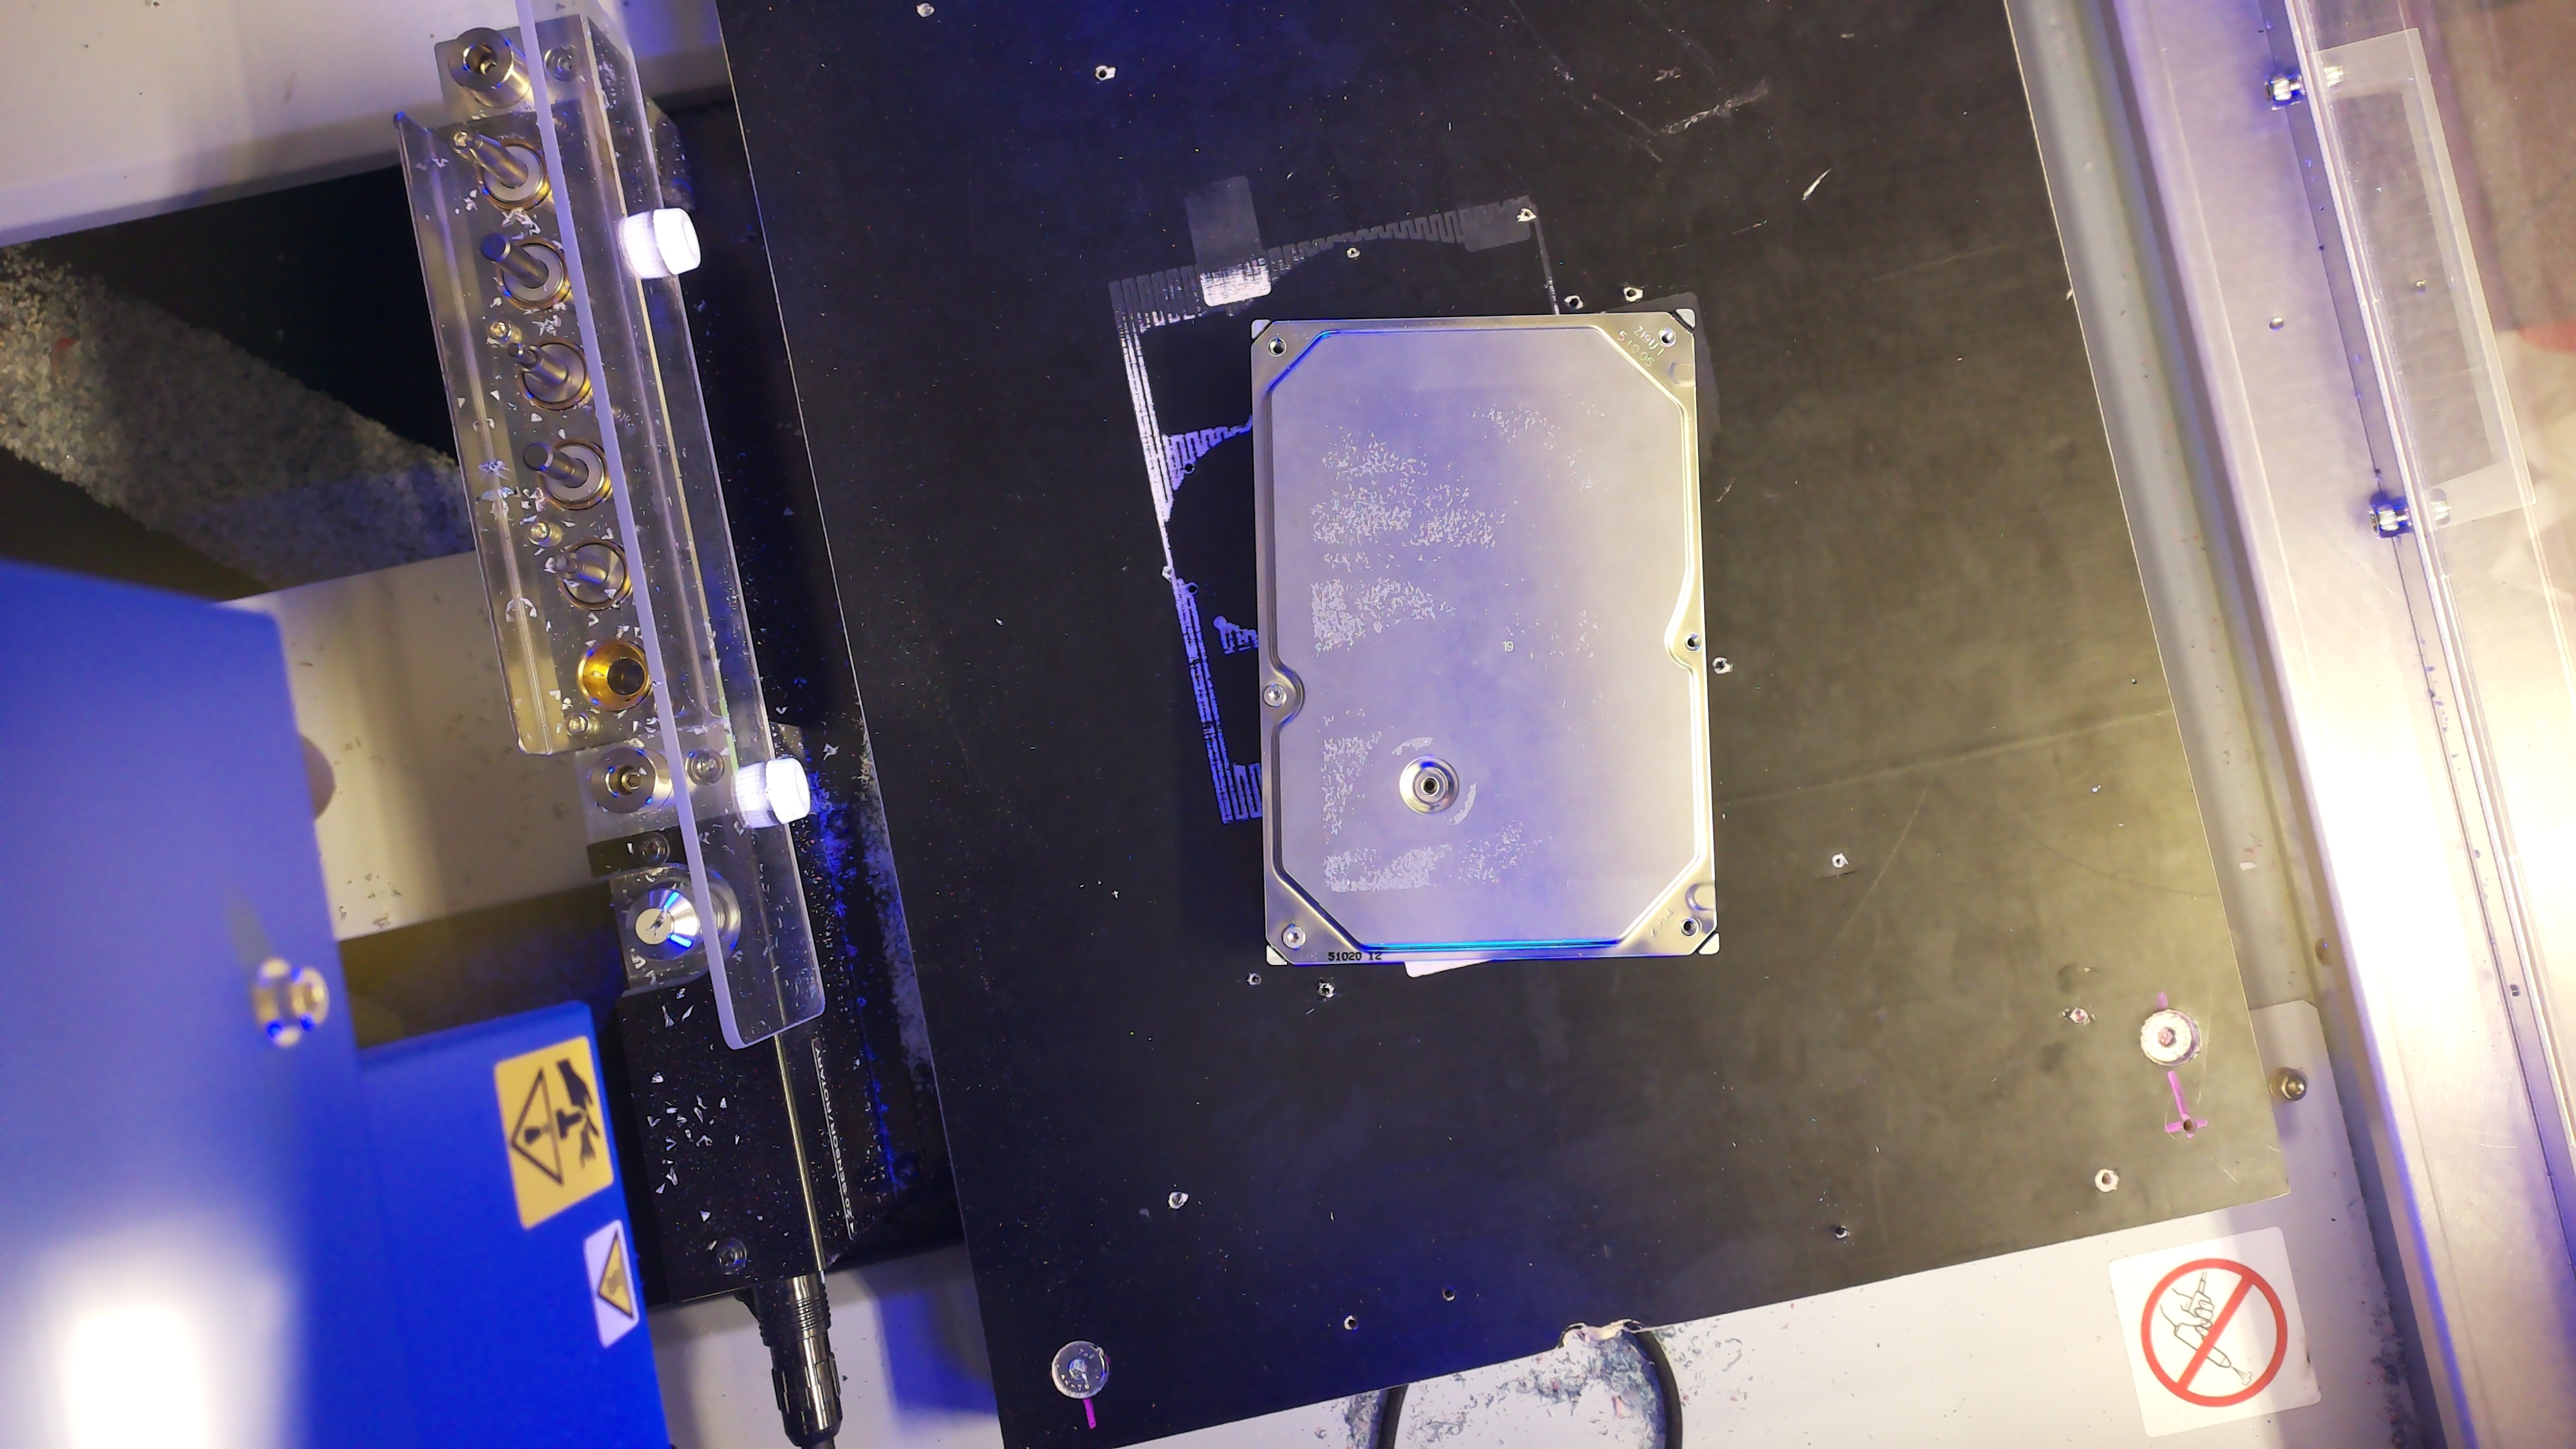Hole: (1421, 777, 1440, 796), (1679, 918, 1698, 936), (1267, 338, 1286, 356), (1658, 327, 1675, 345), (1684, 633, 1700, 651)
Screw: (1281, 925, 1306, 948), (1263, 685, 1286, 708)
